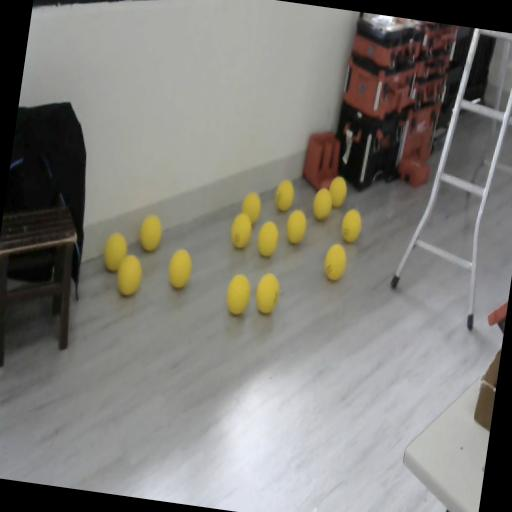FUEL: (164, 246, 196, 292), (224, 271, 254, 318), (114, 252, 144, 298), (253, 270, 282, 316), (101, 230, 129, 274), (255, 218, 281, 258), (138, 214, 164, 254), (322, 242, 348, 282), (238, 189, 264, 227), (338, 206, 364, 244), (284, 208, 308, 246), (310, 185, 334, 222), (273, 178, 296, 213), (326, 175, 348, 209)
